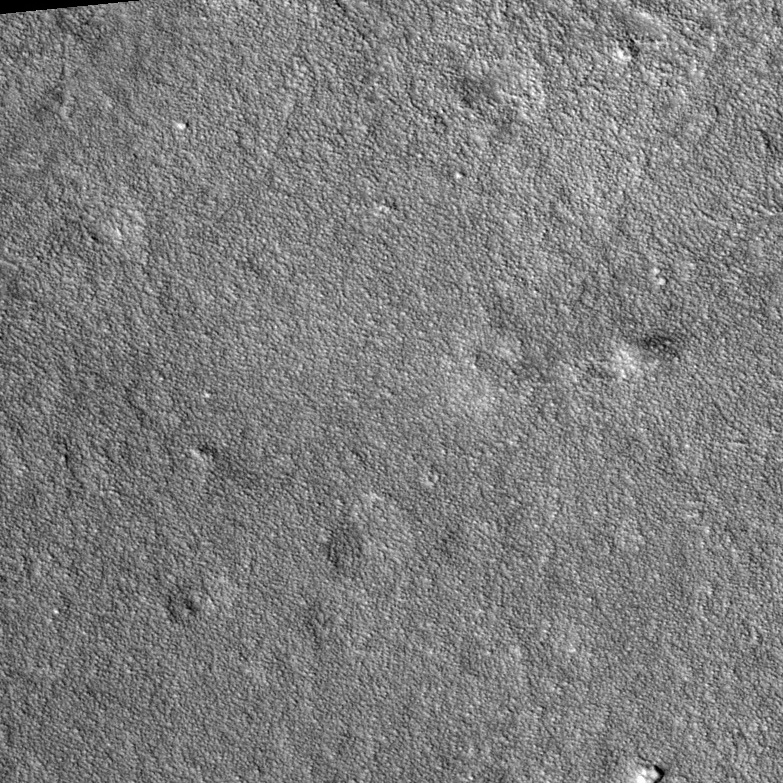dust_devil: (610, 333, 682, 380)
